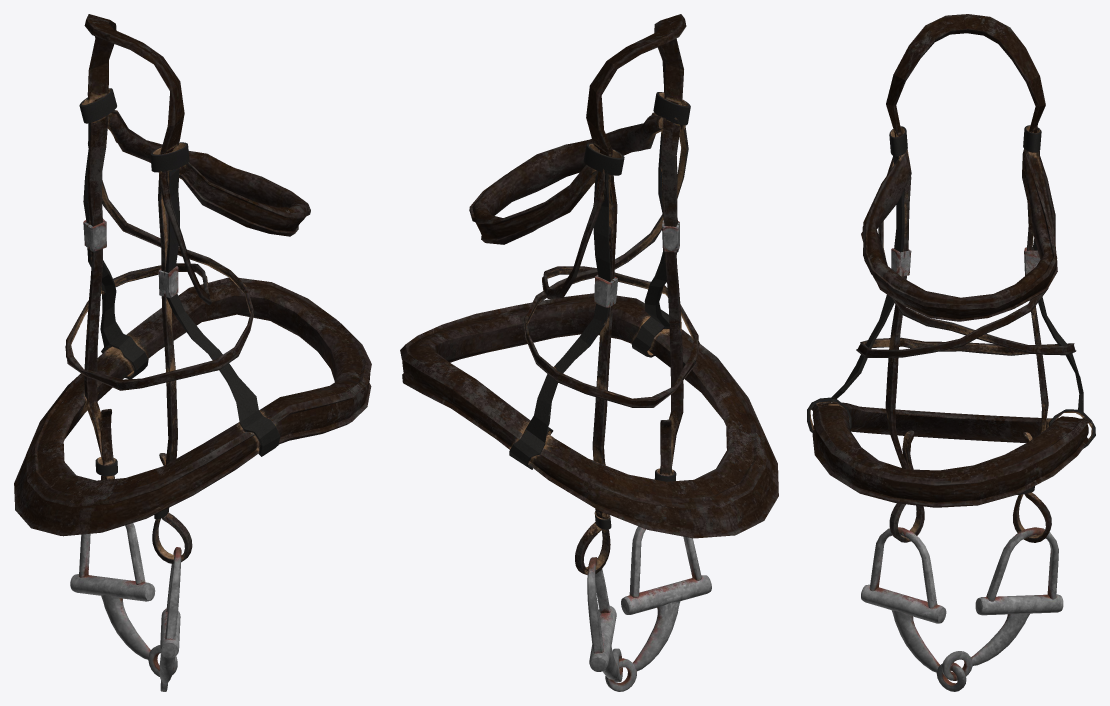
File: HorseBridle_LP.glb
3 views of the same model, side by side, from view 1: azimuth 30°, elevation 25°; view 2: azimuth 150°, elevation 25°; view 3: azimuth 270°, elevation 25° (orthographic). The views are drawn at different scales.
Visible parts, largest first — view 1: HorseBridle_LP; view 2: HorseBridle_LP; view 3: HorseBridle_LP.
Part boxes in pixels (x1,y1,x2,y2): HorseBridle_LP: (14,14,371,691); HorseBridle_LP: (400,14,778,691); HorseBridle_LP: (807,14,1095,691).
Size of the model in its own units: 0.7946 by 1.55 by 0.6271.
Materials: 1 (1 with a texture image).
